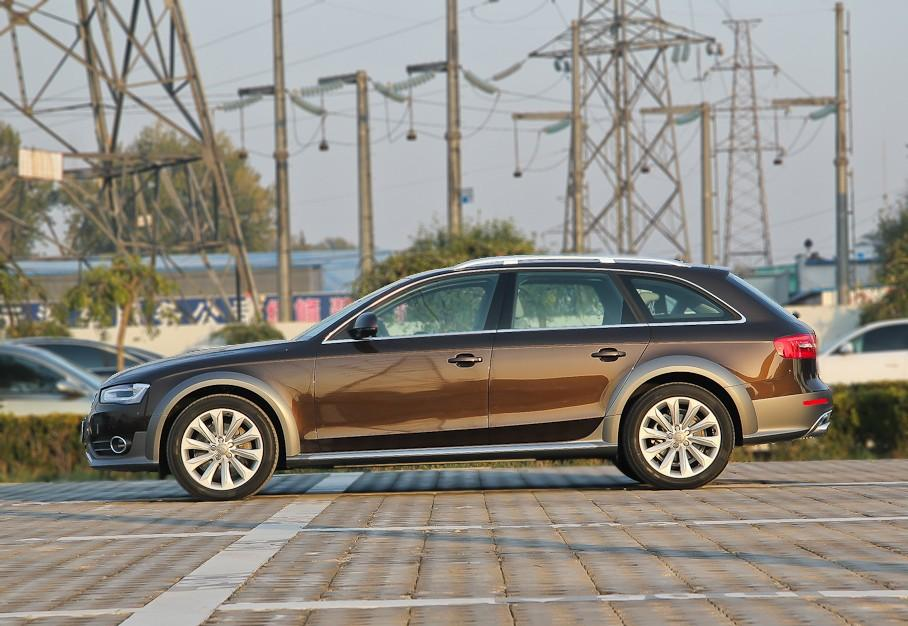Wagon: (78, 253, 838, 501)
